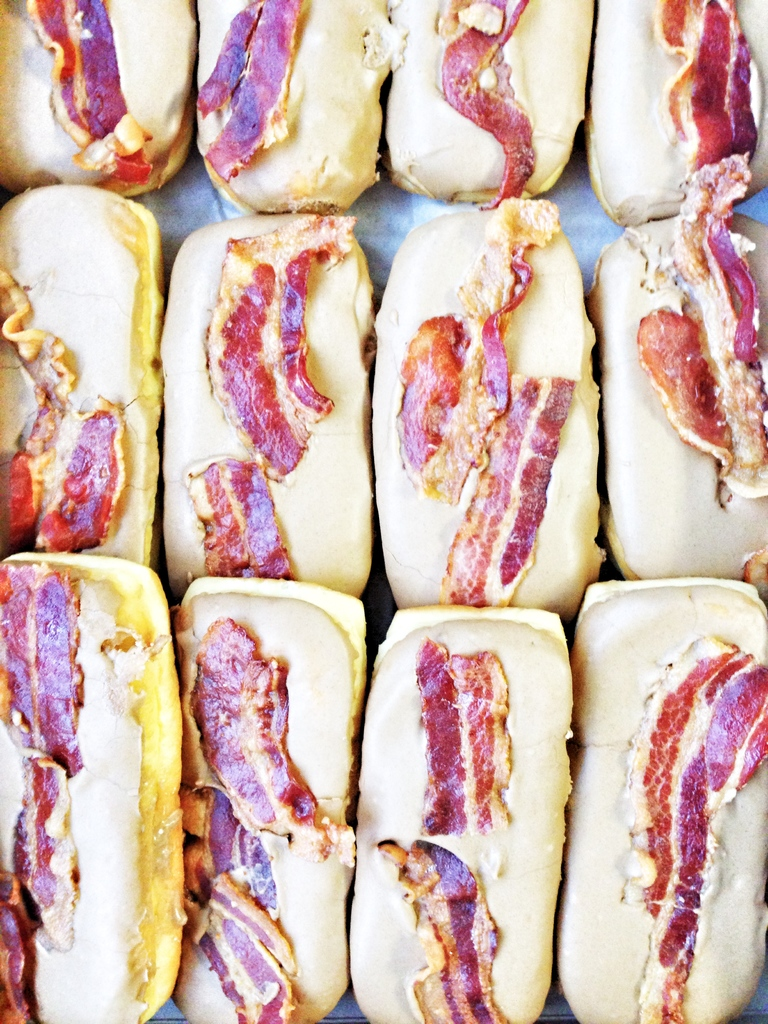hot_dog: (352, 575, 612, 1024)
